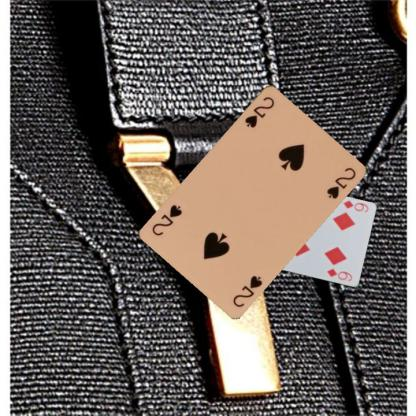2s: (230, 272, 264, 308), (242, 93, 276, 128)
6d: (340, 198, 370, 214)
